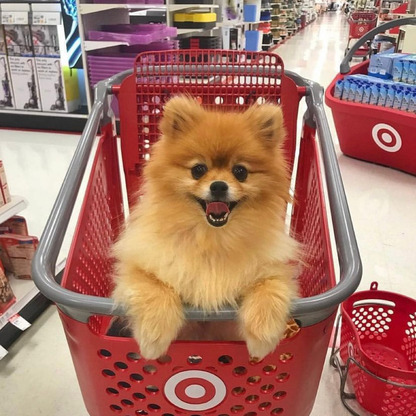Pomeranian: (105, 87, 318, 371)
